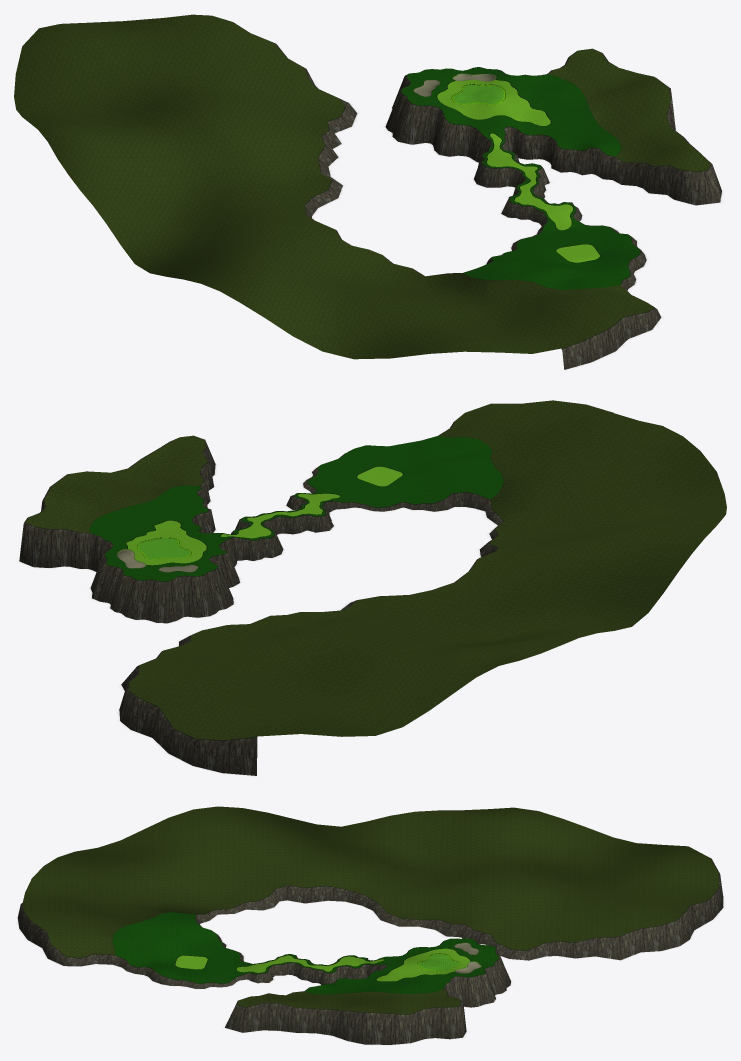
File: glf_course_fc9__glf_course_fc9.glb
3 renders of one model, top to bottom at view 1: azimuth 30°, elevation 25°; view 2: azimuth 150°, elevation 25°; view 3: azimuth 270°, elevation 25°, orthographic. The views are drawn at different scales.
Parts seen in each view (by area): view 1: polygon24, polygon12, polygon26, polygon4, polygon0, polygon19, polygon15, polygon6; view 2: polygon24, polygon12, polygon26, polygon4, polygon0, polygon19, polygon15, polygon6; view 3: polygon24, polygon12, polygon26, polygon4, polygon0, polygon19, polygon15, polygon6.
Boxes of the visible parts, x1=… form: polygon24: x1=14, y1=15, x2=709, y2=359; polygon12: x1=233, y1=22, x2=721, y2=369; polygon26: x1=401, y1=67, x2=639, y2=289; polygon4: x1=437, y1=80, x2=599, y2=262; polygon0: x1=289, y1=58, x2=724, y2=370; polygon19: x1=38, y1=14, x2=710, y2=348; polygon15: x1=401, y1=67, x2=640, y2=285; polygon6: x1=453, y1=84, x2=503, y2=103; polygon24: x1=26, y1=400, x2=726, y2=739; polygon12: x1=19, y1=421, x2=503, y2=775; polygon26: x1=89, y1=436, x2=503, y2=581; polygon4: x1=126, y1=466, x2=402, y2=565; polygon0: x1=16, y1=426, x2=497, y2=776; polygon19: x1=25, y1=400, x2=613, y2=740; polygon15: x1=89, y1=436, x2=490, y2=581; polygon6: x1=139, y1=538, x2=189, y2=558; polygon24: x1=22, y1=806, x2=718, y2=1014; polygon12: x1=17, y1=858, x2=723, y2=1044; polygon26: x1=112, y1=912, x2=498, y2=994; polygon4: x1=175, y1=948, x2=470, y2=981; polygon0: x1=16, y1=893, x2=725, y2=1045; polygon19: x1=22, y1=858, x2=718, y2=1014; polygon15: x1=114, y1=914, x2=498, y2=991; polygon6: x1=419, y1=954, x2=458, y2=970.
Size of what is drawn, in the model's own units: 4101 by 319 by 5785.
Materials: 13 (12 with a texture image).
